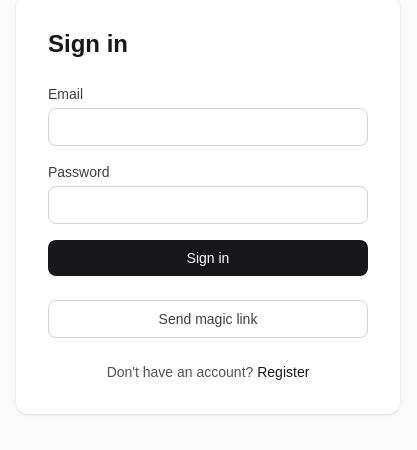
Onboarding flow › Step 2 — Login › shows an error when login fails with bad credentials
The width and height of the screenshot is (417, 450).
In the field labelled "Email": {"x": 208, "y": 127} top-left (48, 108), bottom-right (368, 146), type "alice@example.com"
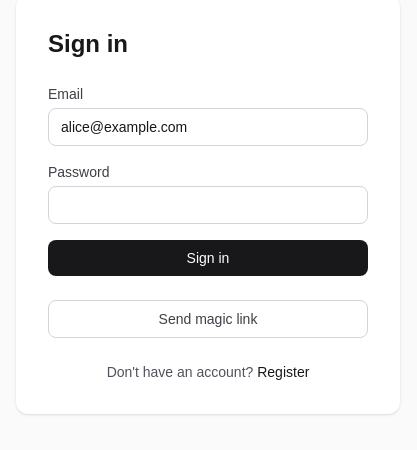
In the password field labelled "Password": {"x": 208, "y": 205} top-left (48, 186), bottom-right (368, 224), type "wrongpassword"
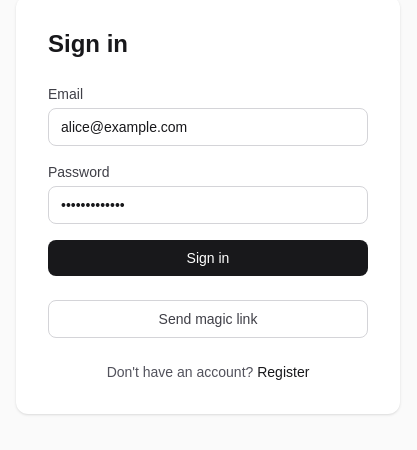
Click the button "Sign in": {"x": 208, "y": 258} top-left (48, 240), bottom-right (368, 276)
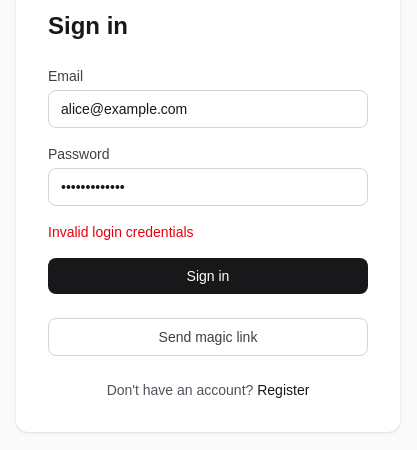
Now the text "Invalid login credentials" is shown, box top-left (48, 224), bottom-right (194, 240)
